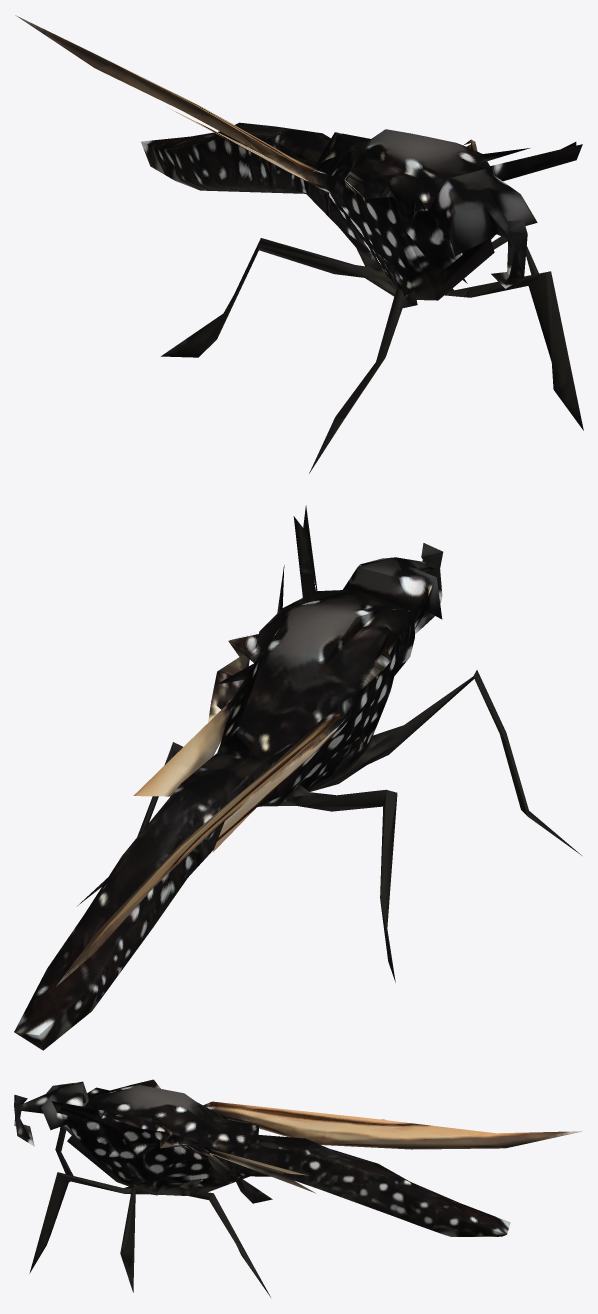
Rendered from mariposa_cuerpo.obj.
3 views of the same model, one above another, from view 1: azimuth 30°, elevation 25°; view 2: azimuth 150°, elevation 25°; view 3: azimuth 270°, elevation 25° (orthographic). The views are drawn at different scales.
Parts seen in each view (by area): view 1: cuerpo; view 2: cuerpo; view 3: cuerpo.
Boxes of the visible parts, box(x1,y1,x2,y2) form: cuerpo: box(15, 15, 583, 473); cuerpo: box(14, 505, 581, 1050); cuerpo: box(14, 1079, 582, 1297).
Size of the model in its own units: 0.4335 by 0.3538 by 1.01.
1 material, 1 textured.
